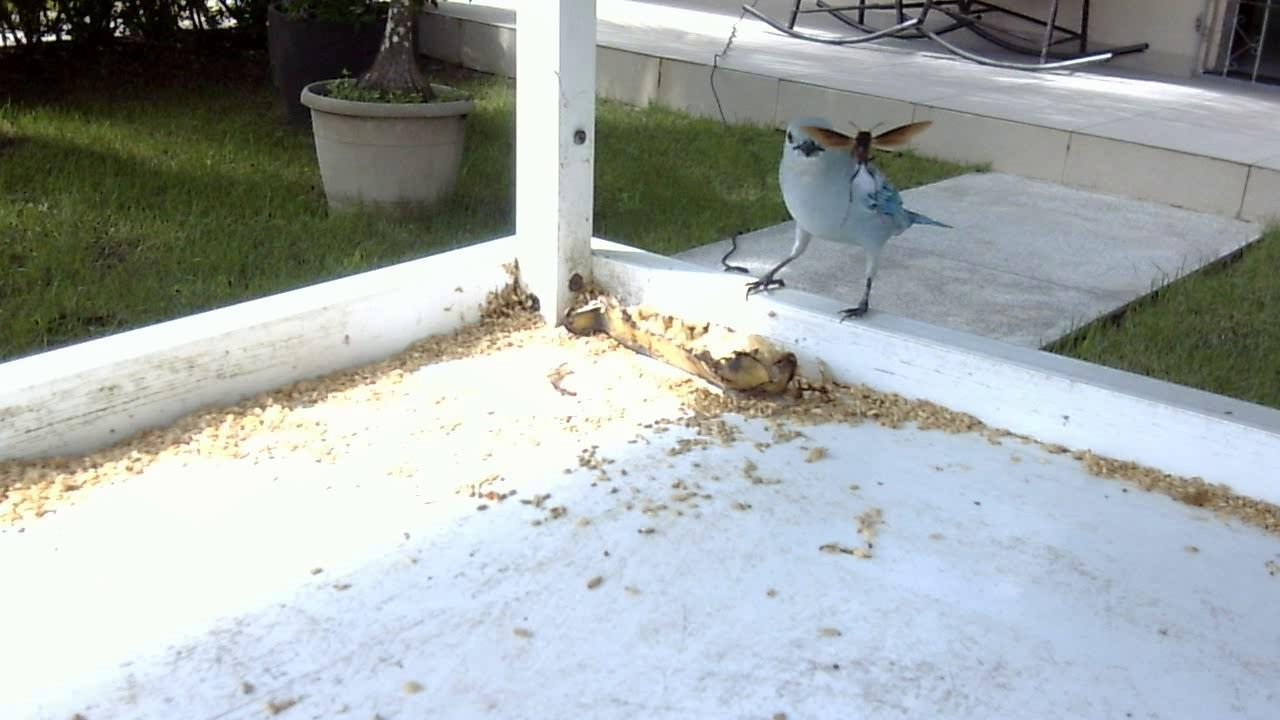sanhaco_da_amazonia: (721, 116, 960, 327)
